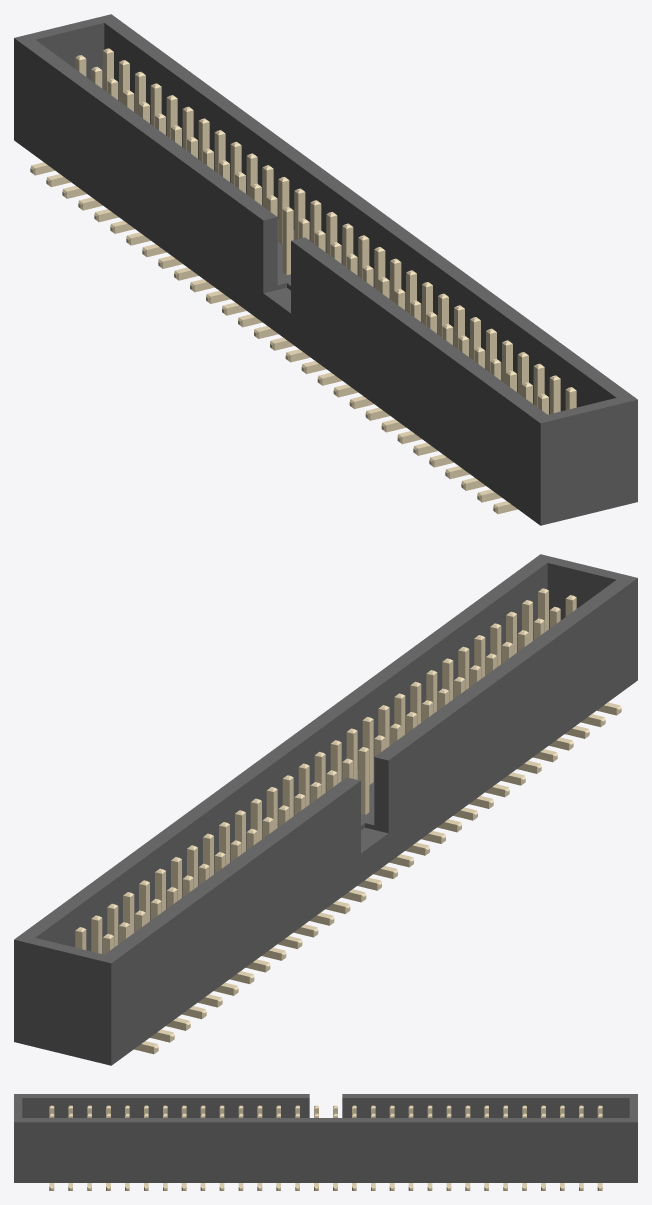
The model's file is kc-idc-header_2x30_p2.54mm_vertical_smd.glb.
3 views of the same model, one above another, from view 1: azimuth 30°, elevation 25°; view 2: azimuth 150°, elevation 25°; view 3: azimuth 270°, elevation 25° (orthographic). The views are drawn at different scales.
Parts seen in each view (by area): view 1: 0.16666666666666666_0.16666666666666666_0.16666666666666666_, 0.8333333333333334_0.75_0.5_0.9; view 2: 0.16666666666666666_0.16666666666666666_0.16666666666666666_, 0.8333333333333334_0.75_0.5_0.9; view 3: 0.16666666666666666_0.16666666666666666_0.16666666666666666_, 0.8333333333333334_0.75_0.5_0.9.
Boxes of the visible parts, box(x1,y1,x2,y2) form: 0.16666666666666666_0.16666666666666666_0.16666666666666666_: box(14, 14, 637, 525); 0.8333333333333334_0.75_0.5_0.9: box(30, 48, 576, 514); 0.16666666666666666_0.16666666666666666_0.16666666666666666_: box(14, 554, 637, 1065); 0.8333333333333334_0.75_0.5_0.9: box(75, 588, 621, 1054); 0.16666666666666666_0.16666666666666666_0.16666666666666666_: box(14, 1094, 637, 1182); 0.8333333333333334_0.75_0.5_0.9: box(49, 1105, 602, 1190).
Size of the model in its own units: 1.16 by 0.9638 by 8.38.
